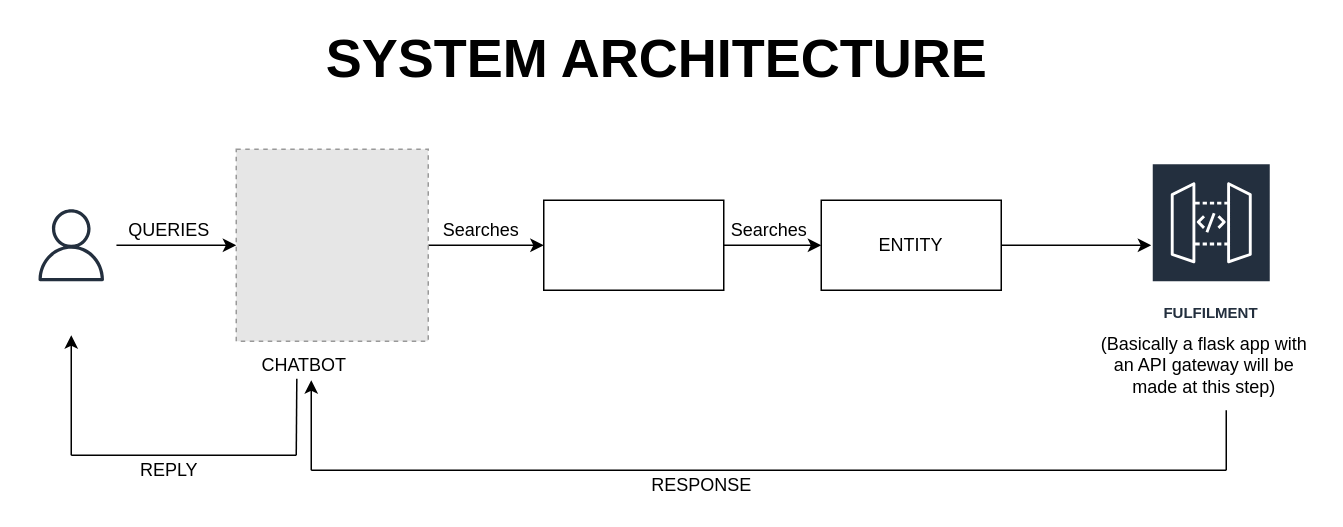
Image size: 1343x527. Some labels were removed from this diagram. Grey dashed boxes stand in for pictures. The centre of each missing label's shape, as x and y in pixels:
INTENT: pixel 633 244
USER: pixel 70 244
